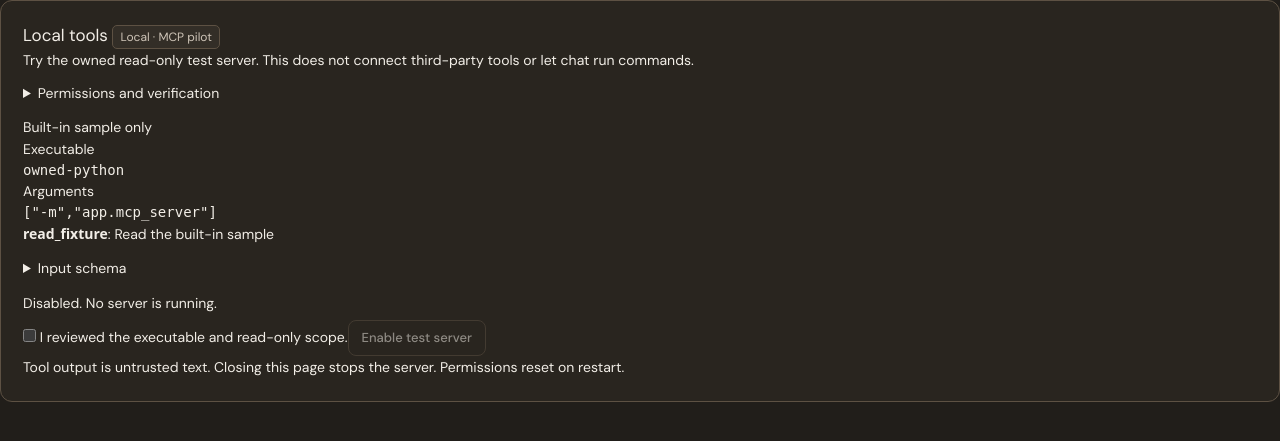
Scenario: shows the exact command and requires review before enabling
Expected: the text "owned-python" is shown, [23,162,124,178]
Expected: the text "[\"-m\",\"app.mcp_server\"]" is shown, [23,204,217,220]
Click the checkbox at point(30, 336), box [23,329,36,342]
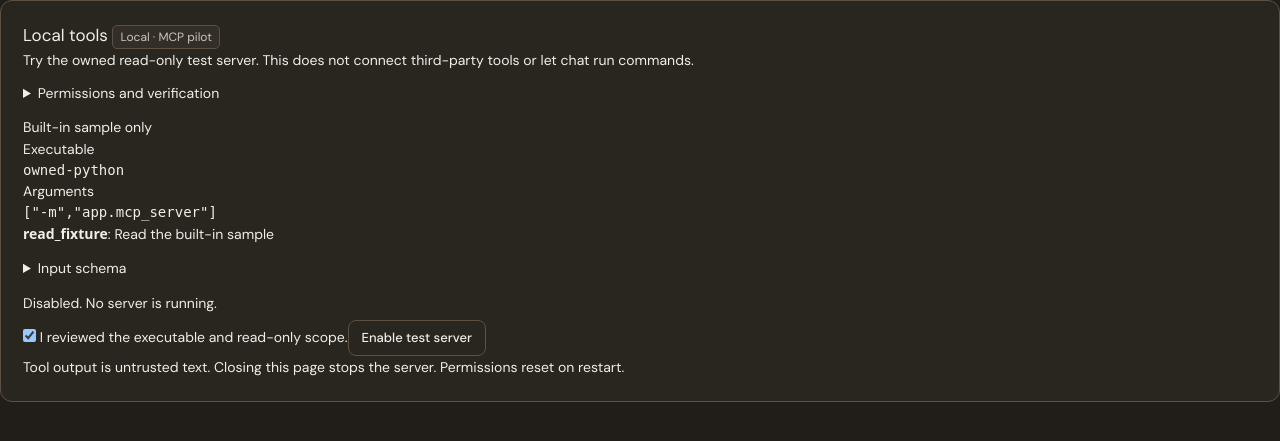
Click the button "Enable test server" at point(417, 338), box [348,320,486,356]
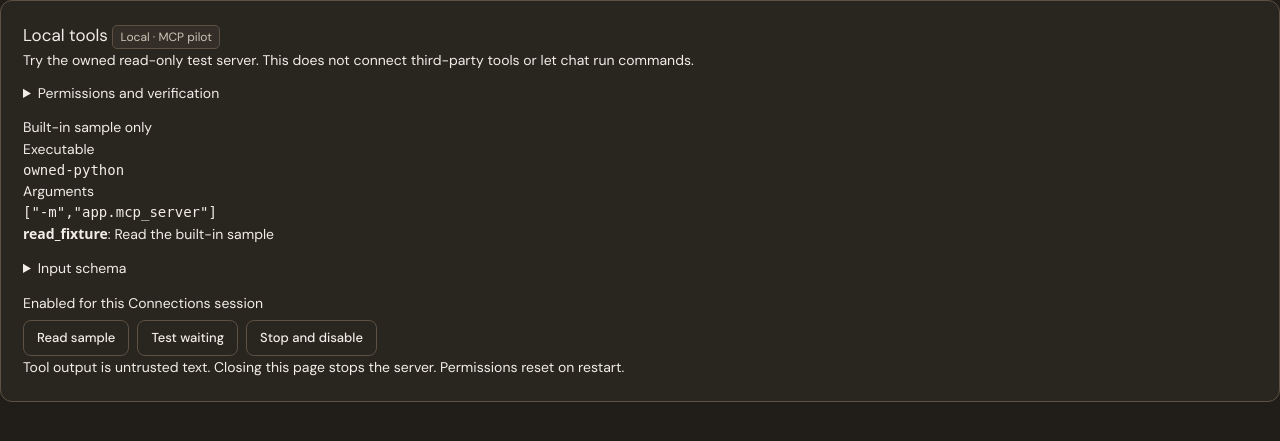
Click the button "Read sample" at point(76, 338), box [23,320,129,356]
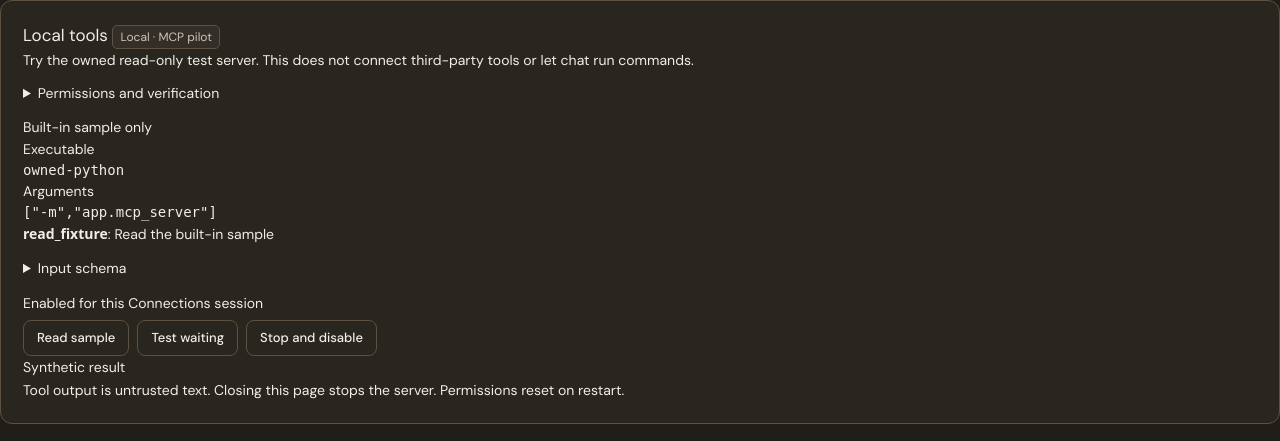
Now the text "Synthetic result" is shown, box [23,358,125,376]
Click the button "Stop and disable" at point(312, 338), box [246,320,377,356]
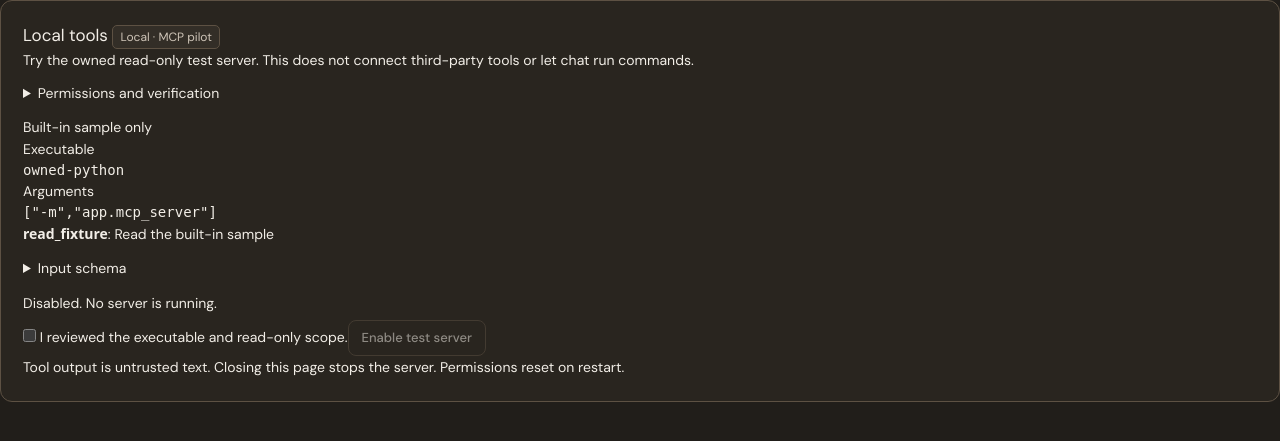
Now the text "Disabled. No server is running." is shown, box [23,294,217,312]
